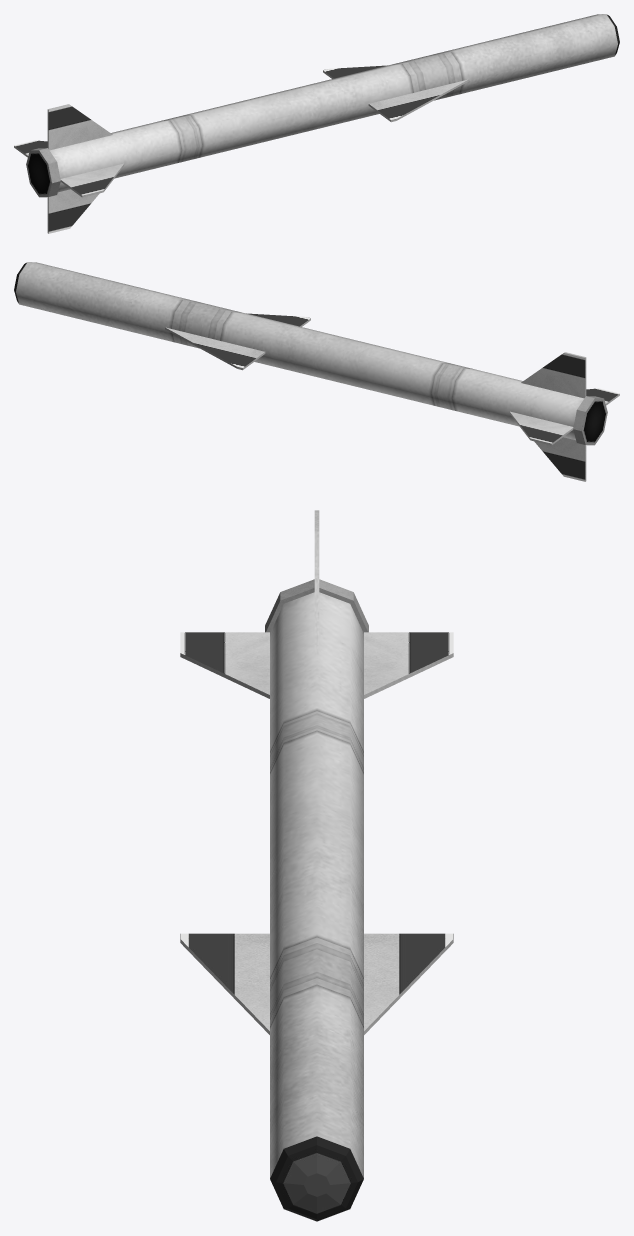
File: roket.FBX
3 renders of one model, top to bottom at view 1: azimuth 30°, elevation 25°; view 2: azimuth 150°, elevation 25°; view 3: azimuth 270°, elevation 25°, orthographic. The views are drawn at different scales.
Parts seen in each view (by area): view 1: Cylinder189; view 2: Cylinder189; view 3: Cylinder189.
Part boxes in pixels (x1=…): Cylinder189: x1=14, y1=14, x2=619, y2=233; Cylinder189: x1=14, y1=262, x2=619, y2=481; Cylinder189: x1=180, y1=510, x2=453, y2=1221.
Bounding box in the file's own units: 2.11 × 0.4349 × 0.4349.
